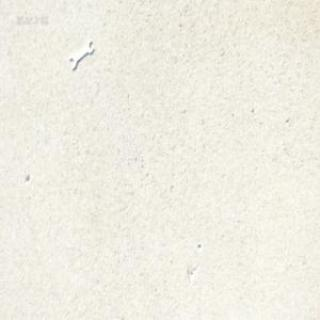Wrenchtrack_idkeyframe: (68, 35, 93, 68)
